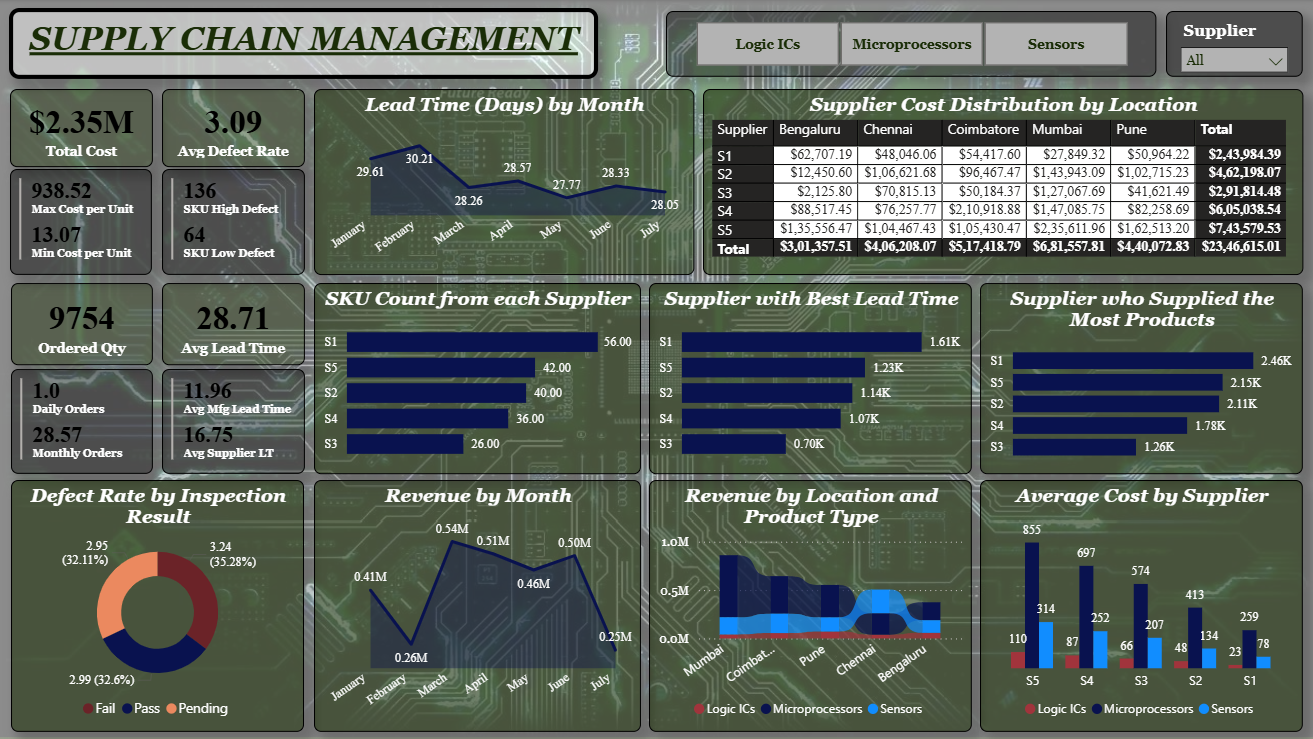

The page's visual inventory and layout, read from the dashboard file:
{"tool":"powerbi","page":{"name":"Page 1","canvas":[1280,720],"ordinal":0},"visuals":[{"type":"textbox","box":[10.7,3.9,614.7,78.8],"z":0},{"type":"multiRowCard","fields":{"Values":["M1.Daily Orders","M1.Monthly Orders"]},"box":[13,359.8,137.6,101.9],"z":1000},{"type":"card","fields":{"Values":["Sum(Supply_Chain_Data.Total_Cost)"]},"box":[11.9,87.8,138.7,75.9],"z":2000},{"type":"card","fields":{"Values":["Sum(Supply_Chain_Data.Ordered_Quantity)"]},"box":[13,276.4,137.6,80.2],"z":3000},{"type":"multiRowCard","fields":{"Values":["M1.Maximum Cost per Unit","M1.Minimum Cost per Unit"]},"box":[11.9,165.8,137.6,103],"z":4000},{"type":"card","fields":{"Values":["M1.Average Lead Time"]},"box":[159.3,276.4,138.7,80.2],"z":5000},{"type":"multiRowCard","fields":{"Values":["M1.Average Manufacturing Lead Time","M1.Average Supplier Lead Time"]},"box":[159.3,359.8,138.7,101.9],"z":6000},{"type":"card","fields":{"Values":["Avg(Supply_Chain_Data.Defect_Rate)"]},"box":[159.3,87.8,138.7,75.9],"z":7000},{"type":"multiRowCard","fields":{"Values":["M1.SKU High Defect","M1.SKU Low Defect"]},"box":[159.3,165.8,138.7,103],"z":8000},{"type":"donutChart","title":"Defect Rate by Inspection Result","fields":{"Category":["Supply_Chain_Data.Inspection_Result"],"Y":["Avg(Supply_Chain_Data.Defect_Rate)"]},"box":[13,468.2,285,244.9],"z":9000},{"type":"areaChart","title":"Revenue by Month","fields":{"Y":["Sum(Supply_Chain_Data.Revenue)"],"Category":["DateTable.Month Name"]},"box":[307.4,467.8,318.1,245.1],"z":10000},{"type":"slicer","fields":{"Values":["Supply_Chain_Data.Product_Type"]},"box":[649.7,11.7,476.6,64.2],"z":11000},{"type":"areaChart","title":"Lead Time (Days) by Month","fields":{"Y":["Avg(Supply_Chain_Data.Avg_Lead_Time)"],"Category":["DateTable.Month Name"]},"box":[307.4,87.5,369.6,180.9],"z":12000},{"type":"clusteredBarChart","title":"SKU Count from each Supplier","fields":{"Category":["Supply_Chain_Data.Supplier"],"Y":["CountNonNull(Supply_Chain_Data.SKU)"]},"box":[307.4,276.2,318.1,185.8],"z":13000},{"type":"clusteredBarChart","title":"Supplier who Supplied the Most Products","fields":{"Category":["Supply_Chain_Data.Supplier"],"Y":["Sum(Supply_Chain_Data.Ordered_Quantity)"]},"box":[955.1,276.2,314.2,185.8],"z":14000},{"type":"pivotTable","title":"Supplier Cost Distribution by Location","fields":{"Rows":["Supply_Chain_Data.Supplier"],"Columns":["Supply_Chain_Data.Location"],"Values":["Sum(Supply_Chain_Data.Total_Cost)"]},"box":[685.7,87.5,583.6,180.9],"z":15000},{"type":"ribbonChart","title":"Revenue by Location and Product Type","fields":{"Category":["Supply_Chain_Data.Location"],"Y":["Sum(Supply_Chain_Data.Revenue)"],"Series":["Supply_Chain_Data.Product_Type"]},"box":[633.2,467.8,314.2,245.1],"z":16000},{"type":"clusteredColumnChart","title":"Average Cost by Supplier","fields":{"Y":["Avg(Supply_Chain_Data.Unit_Cost)"],"Category":["Supply_Chain_Data.Supplier"],"Series":["Supply_Chain_Data.Product_Type"]},"box":[955.1,467.8,314.2,245.1],"z":17000},{"type":"slicer","fields":{"Values":["Supply_Chain_Data.Supplier"]},"box":[1136,11.7,133.3,64.2],"z":18000},{"type":"clusteredBarChart","title":"Supplier with Best Lead Time","fields":{"Category":["Supply_Chain_Data.Supplier"],"Y":["Sum(Supply_Chain_Data.Avg_Lead_Time)"]},"box":[633.2,276.2,314.2,185.8],"z":19000}]}

Visuals, with their boxes in screenshot pixels (x1, y1, x2, y2), scaled from the page's 1280x720 canvas onto the 1313x739 screenshot:
textbox: region(11, 4, 642, 85)
multiRowCard - M1.Daily Orders x M1.Monthly Orders: region(13, 369, 154, 474)
card - Sum(Supply_Chain_Data.Total_Cost): region(12, 90, 154, 168)
card - Sum(Supply_Chain_Data.Ordered_Quantity): region(13, 284, 154, 366)
multiRowCard - M1.Maximum Cost per Unit x M1.Minimum Cost per Unit: region(12, 170, 153, 276)
card - M1.Average Lead Time: region(163, 284, 306, 366)
multiRowCard - M1.Average Manufacturing Lead Time x M1.Average Supplier Lead Time: region(163, 369, 306, 474)
card - Avg(Supply_Chain_Data.Defect_Rate): region(163, 90, 306, 168)
multiRowCard - M1.SKU High Defect x M1.SKU Low Defect: region(163, 170, 306, 276)
"Defect Rate by Inspection Result" donutChart: region(13, 481, 306, 732)
"Revenue by Month" areaChart: region(315, 480, 642, 732)
slicer - Supply_Chain_Data.Product_Type: region(666, 12, 1155, 78)
"Lead Time (Days) by Month" areaChart: region(315, 90, 694, 275)
"SKU Count from each Supplier" clusteredBarChart: region(315, 283, 642, 474)
"Supplier who Supplied the Most Products" clusteredBarChart: region(980, 283, 1302, 474)
"Supplier Cost Distribution by Location" pivotTable: region(703, 90, 1302, 275)
"Revenue by Location and Product Type" ribbonChart: region(650, 480, 972, 732)
"Average Cost by Supplier" clusteredColumnChart: region(980, 480, 1302, 732)
slicer - Supply_Chain_Data.Supplier: region(1165, 12, 1302, 78)
"Supplier with Best Lead Time" clusteredBarChart: region(650, 283, 972, 474)
